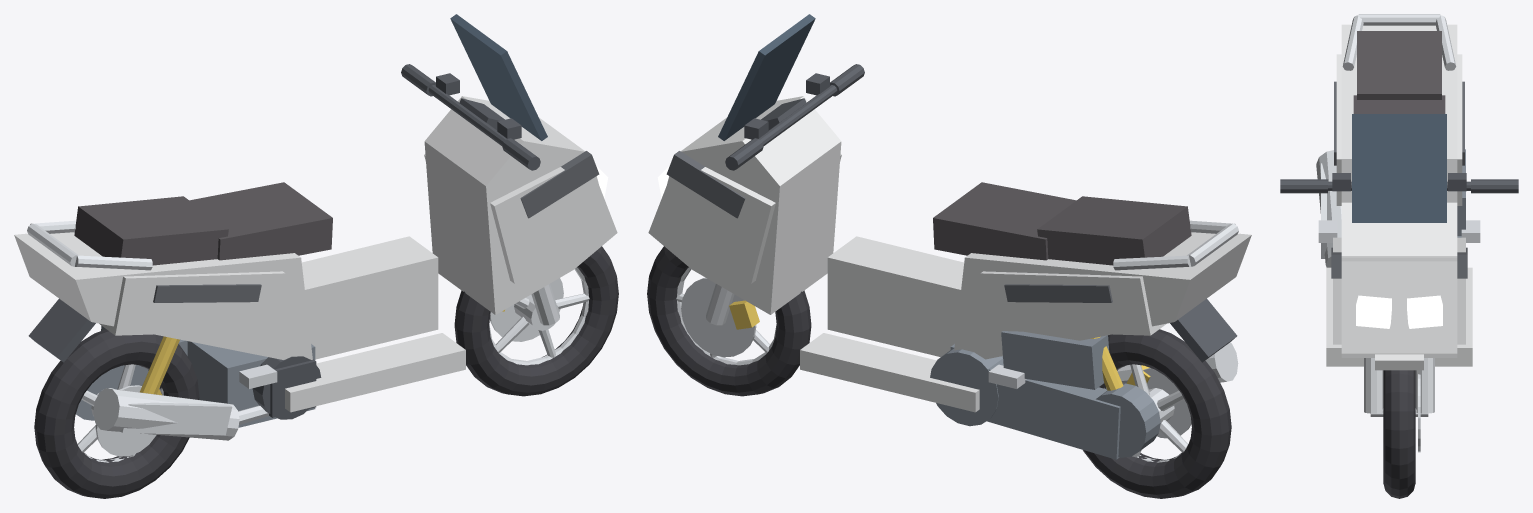
The model's file is yamaha-nmax-155-gpd155-bbm1.glb.
The picture shows the model from 3 angles, left to right: view 1: azimuth 30°, elevation 25°; view 2: azimuth 150°, elevation 25°; view 3: azimuth 270°, elevation 25°; orthographic projection. The views are drawn at different scales.
Visible parts, largest first — view 1: Bodi_Utama, Roda_Ban, Jok_Motor, Cover_Knalpot, Windshield_Visor, Aksen_Bodi, Mesin_Blok, Master_Rem_Stang, Velg_Roda, Cover_Radiator, Spakbor_Belakang, Behel_Jok (+6 smaller); view 2: Bodi_Utama, Roda_Ban, Cover_CVT, Jok_Motor, Windshield_Visor, Aksen_Bodi, Master_Rem_Stang, Piringan_Depan, Velg_Roda, Spakbor_Belakang, Behel_Jok, Piringan_Belakang (+3 smaller); view 3: Bodi_Utama, Windshield_Visor, Jok_Motor, Roda_Ban, Master_Rem_Stang, Lampu_Depan, Behel_Jok, Suspensi_Depan, Cover_Knalpot, Aksen_Bodi, Spakbor_Depan, Footstep_Belakang (+1 smaller).
Part boxes in pixels (x1,y1,x2,y2): Bodi_Utama: (14,96,617,412); Roda_Ban: (34,246,618,498); Jok_Motor: (74,182,332,265); Cover_Knalpot: (93,388,268,440); Windshield_Visor: (450,14,547,140); Aksen_Bodi: (153,151,599,302); Mesin_Blok: (187,341,315,427); Master_Rem_Stang: (401,64,540,170); Velg_Roda: (77,267,589,462); Cover_Radiator: (252,356,321,419); Spakbor_Belakang: (28,298,95,362); Behel_Jok: (27,220,152,270); Bodi_Utama: (648,96,1251,412); Roda_Ban: (647,246,1231,498); Cover_CVT: (930,331,1160,459); Jok_Motor: (933,182,1191,265); Windshield_Visor: (718,14,815,140); Aksen_Bodi: (666,151,1112,302); Master_Rem_Stang: (725,64,864,170); Piringan_Depan: (681,277,756,357); Velg_Roda: (676,267,1188,462); Spakbor_Belakang: (1170,298,1237,362); Behel_Jok: (1113,220,1238,270); Piringan_Belakang: (1143,368,1191,438); Bodi_Utama: (1326,24,1472,366); Windshield_Visor: (1352,114,1446,222); Jok_Motor: (1353,31,1445,113); Roda_Ban: (1383,370,1415,498); Master_Rem_Stang: (1280,173,1518,193); Lampu_Depan: (1356,295,1442,328); Behel_Jok: (1342,14,1456,70); Suspensi_Depan: (1364,358,1434,416); Cover_Knalpot: (1316,150,1341,267); Aksen_Bodi: (1331,81,1467,278); Spakbor_Depan: (1375,354,1423,370); Footstep_Belakang: (1318,220,1480,242).
Size of the model in its own units: 1.85 by 1.14 by 0.7.
